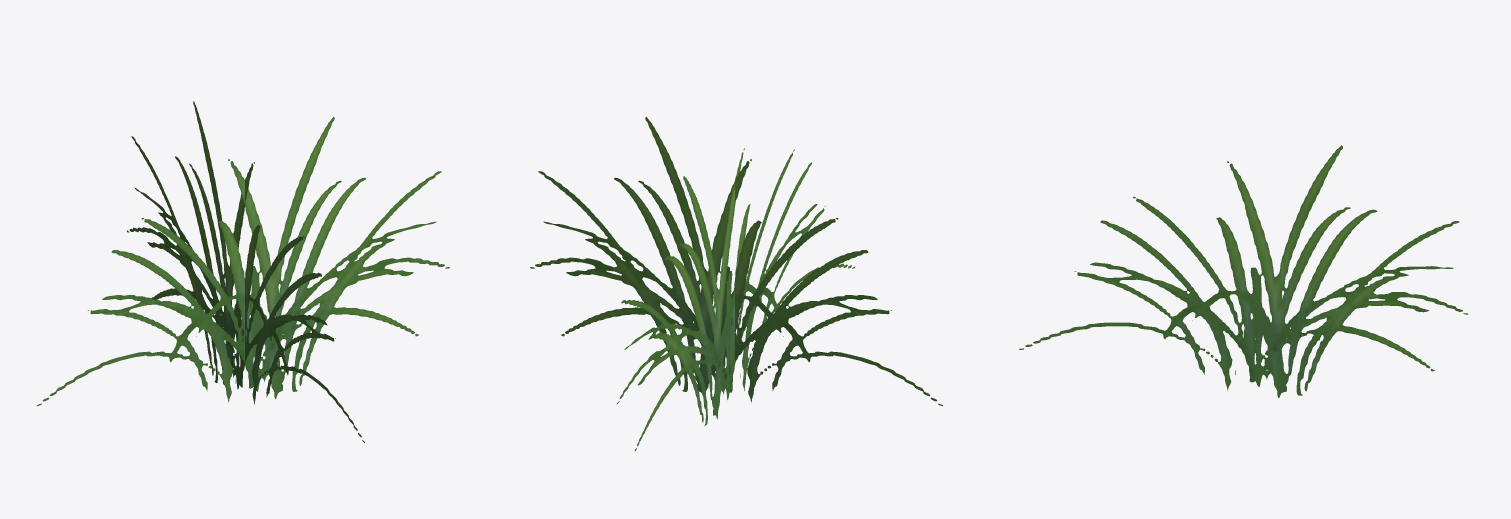
The model's file is Scene_TerrainGrass_4.FBX.
3 renders of one model, left to right at view 1: azimuth 30°, elevation 25°; view 2: azimuth 150°, elevation 25°; view 3: azimuth 270°, elevation 25°, orthographic. The views are drawn at different scales.
Parts seen in each view (by area): view 1: Scene_TerrainGrass_4; view 2: Scene_TerrainGrass_4; view 3: Scene_TerrainGrass_4.
Part boxes in pixels (x1,y1,x2,y2): Scene_TerrainGrass_4: (37, 101, 449, 442); Scene_TerrainGrass_4: (530, 117, 942, 450); Scene_TerrainGrass_4: (1019, 145, 1467, 398).
Size of the model in its own units: 50 by 30.62 by 50.
